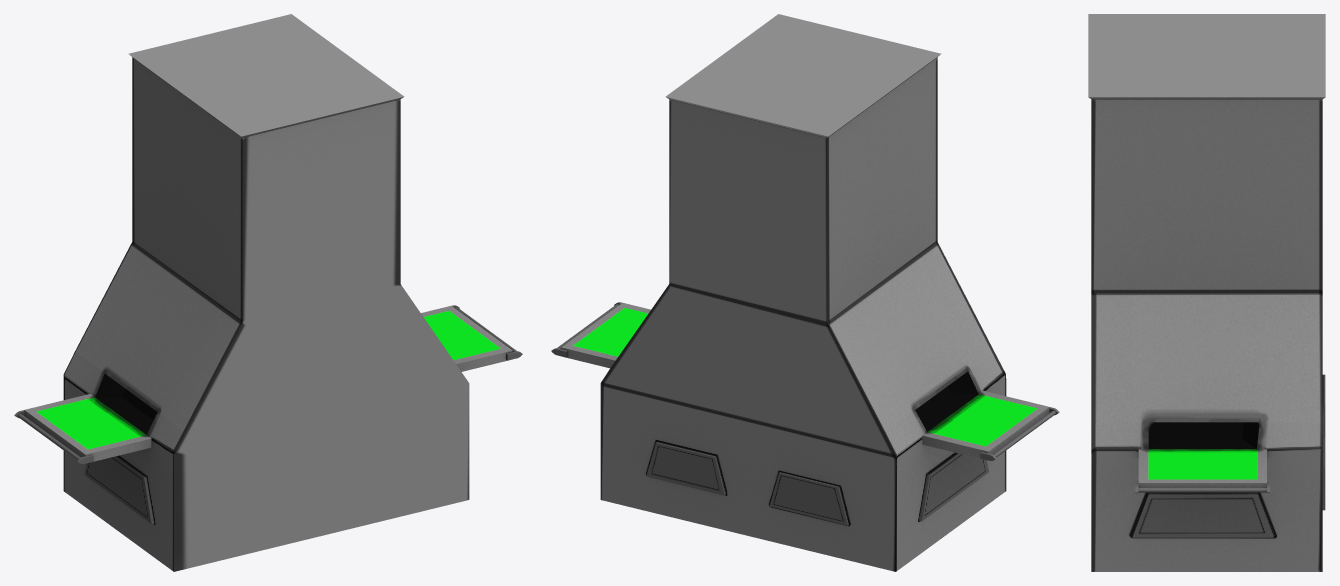
Rendered from OvenT.fbx.
3 views of the same model, side by side, from view 1: azimuth 30°, elevation 25°; view 2: azimuth 150°, elevation 25°; view 3: azimuth 270°, elevation 25° (orthographic). The views are drawn at different scales.
Parts seen in each view (by area): view 1: Oven; view 2: Oven; view 3: Oven.
Part boxes in pixels (x1,y1,x2,y2): Oven: [14, 14, 522, 571]; Oven: [551, 14, 1059, 571]; Oven: [1088, 14, 1325, 571].
Size of the model in its own units: 906 by 819 by 399.
